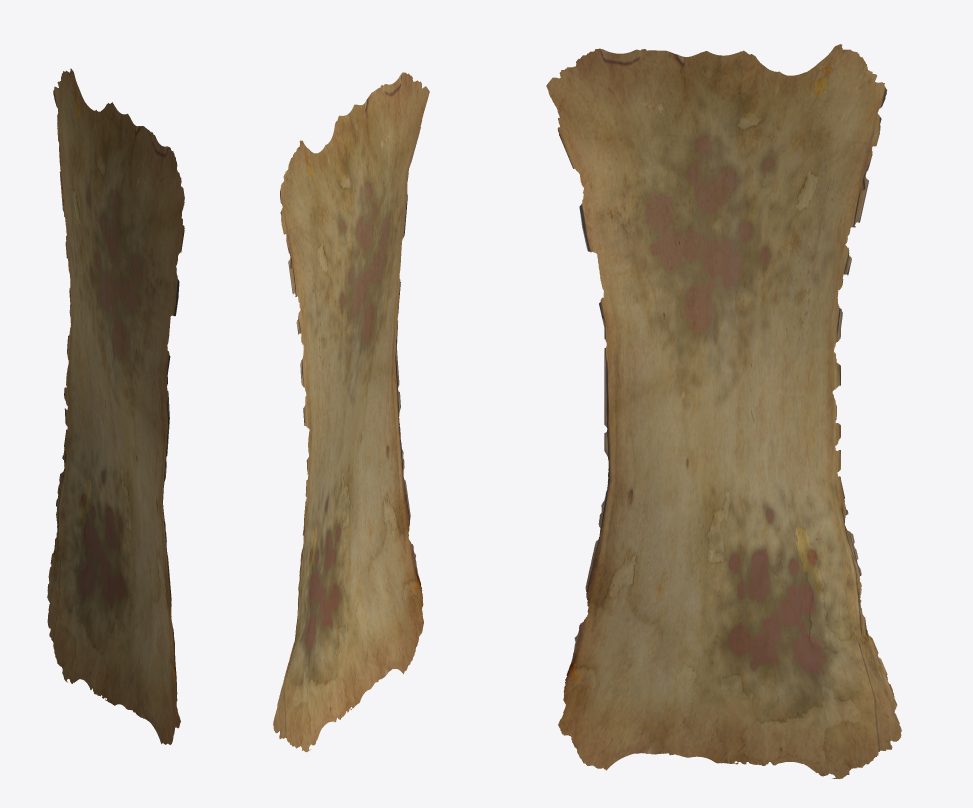
The model's file is tissue4.FBX.
3 renders of one model, left to right at view 1: azimuth 30°, elevation 25°; view 2: azimuth 150°, elevation 25°; view 3: azimuth 270°, elevation 25°, orthographic. The views are drawn at different scales.
Parts seen in each view (by area): view 1: tissue4; view 2: tissue4; view 3: tissue4.
Boxes of the visible parts, <box> form: tissue4: <box>47,68,184,744</box>; tissue4: <box>273,72,429,751</box>; tissue4: <box>546,44,901,778</box>.
Size of the model in its own units: 6.36 by 180 by 100.
